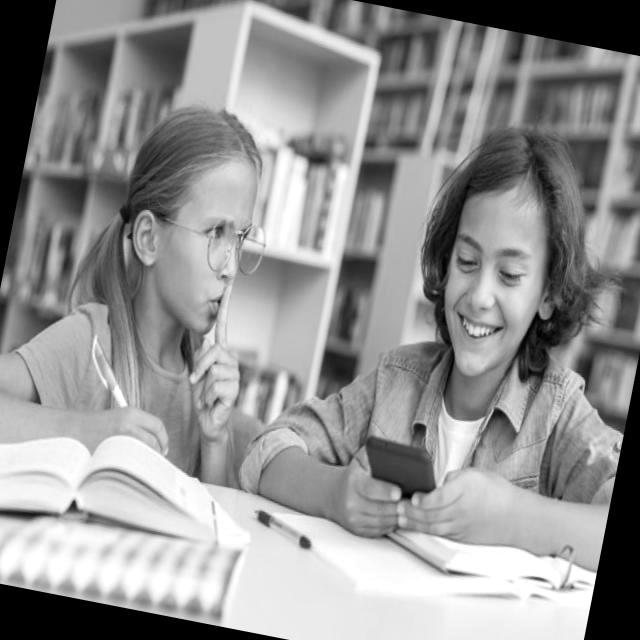phone: (355, 434, 443, 504)
